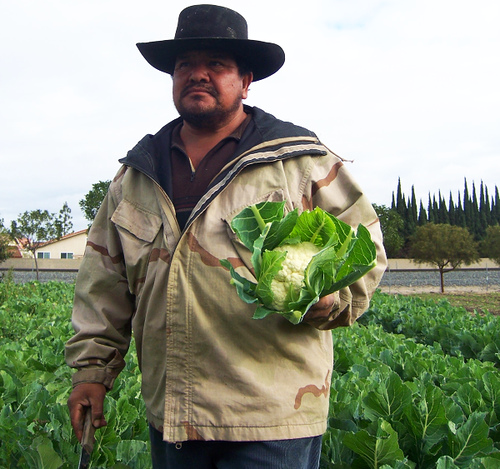cauliflower: (217, 198, 376, 324)
